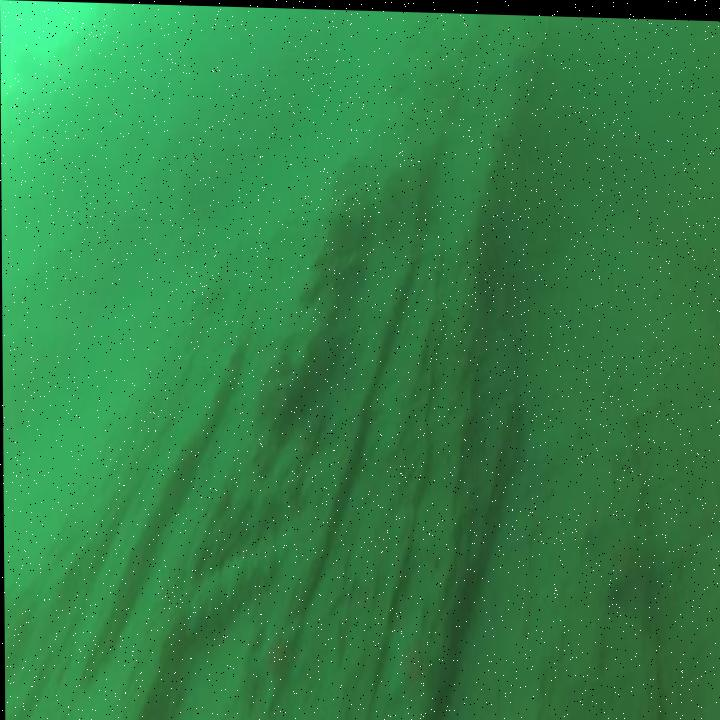holothurian: (182, 530, 297, 631)
starfish: (593, 515, 669, 629), (377, 600, 442, 703), (248, 606, 293, 709)
